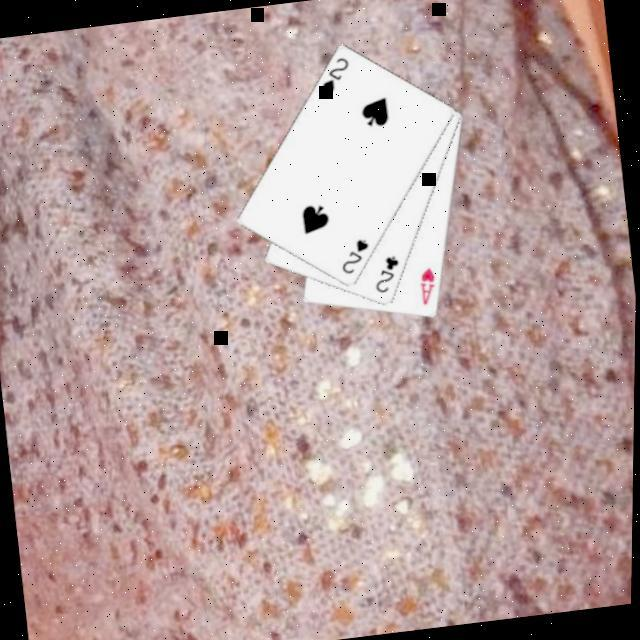2C: (370, 252, 408, 298)
2S: (336, 236, 376, 279), (316, 54, 356, 97)
AH: (416, 265, 443, 309)
